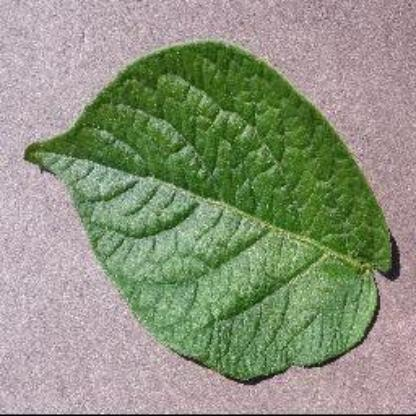Healthy-plant: (15, 37, 408, 387)
